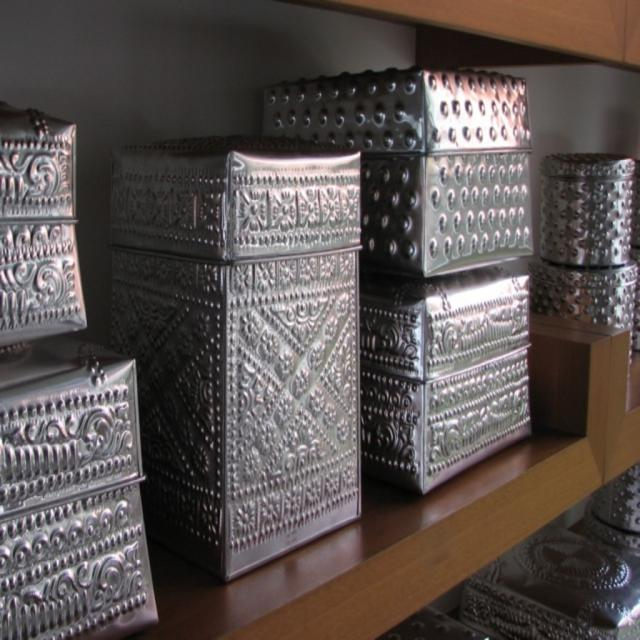Box: (0, 338, 159, 638)
